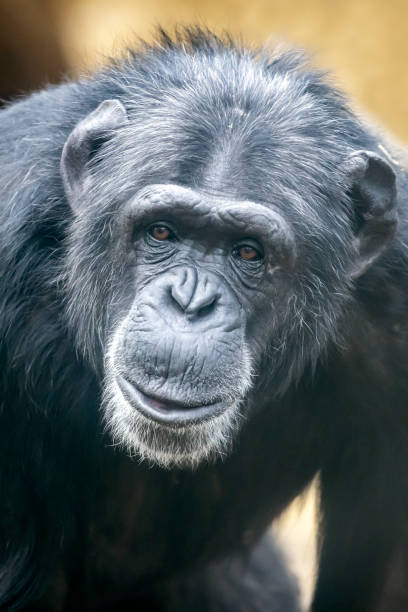chimpanzee: (32, 31, 408, 500)
